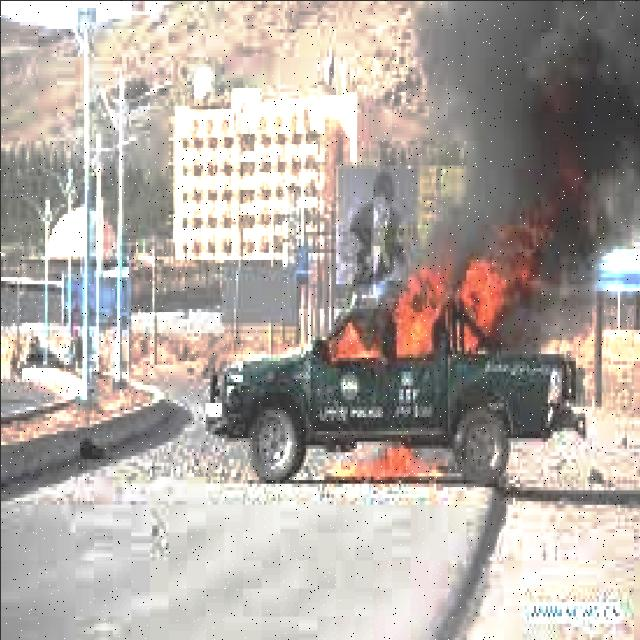api: (325, 225, 553, 379), (313, 396, 457, 494)
